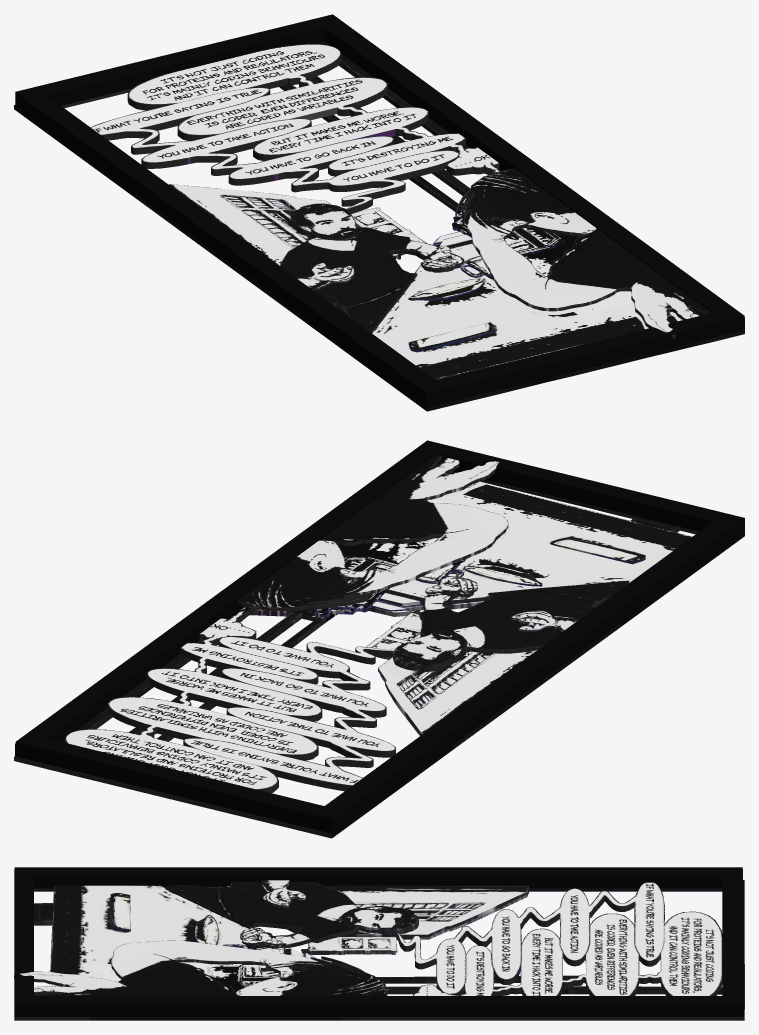
3 renders of one model, top to bottom at view 1: azimuth 30°, elevation 25°; view 2: azimuth 150°, elevation 25°; view 3: azimuth 270°, elevation 25°, orthographic. The views are drawn at different scales.
Parts seen in each view (by area): view 1: Speech, Frame-hand, D1, back-table, Frame, M_upper_body, Back, Window-wall, M-head, M-full-body, Kerupuk Tin, Phone (+5 smaller); view 2: Speech, Frame-hand, D1, back-table, Frame, Back, M_upper_body, Window-wall, M-head, M-full-body, Food Counter, Phone (+5 smaller); view 3: Speech, Frame-hand, Frame, D1, back-table, Back, M_upper_body, Window-wall, M-full-body, M-head, Food Counter, M-R-arm (+5 smaller).
Boxes of the visible parts, x1,y1,x2,y2 form: Speech: (91, 43, 500, 213); Frame-hand: (15, 14, 744, 394); D1: (455, 169, 711, 338); back-table: (372, 233, 701, 380); Frame: (15, 29, 744, 407); M_upper_body: (280, 213, 458, 309); Back: (14, 41, 744, 411); Window-wall: (168, 184, 398, 308); M-head: (290, 203, 359, 240); M-full-body: (290, 217, 460, 332); Kerupuk Tin: (452, 202, 564, 255); Phone: (408, 322, 493, 352); Speech: (64, 610, 395, 792); Frame-hand: (15, 440, 744, 820); D1: (237, 455, 508, 611); back-table: (337, 482, 691, 605); Frame: (15, 457, 744, 833); Back: (14, 471, 744, 838); M_upper_body: (393, 590, 599, 668); Window-wall: (378, 637, 536, 735); M-head: (394, 630, 467, 667); M-full-body: (393, 580, 629, 671); Food Counter: (365, 609, 421, 652); Phone: (550, 537, 645, 564); Speech: (396, 882, 722, 995); Frame-hand: (14, 867, 742, 1005); Frame: (14, 869, 742, 1016); D1: (14, 940, 393, 995); back-table: (49, 885, 303, 992); Back: (14, 880, 744, 1020); M_upper_body: (218, 882, 418, 946); Window-wall: (227, 885, 528, 937); M-full-body: (165, 885, 418, 948); M-head: (341, 906, 417, 930); Food Counter: (301, 936, 397, 952); M-R-arm: (262, 880, 305, 906).
Size of the model in its own units: 42.3 by 2.33 by 95.31.
Materials: 21 (19 with a texture image).
